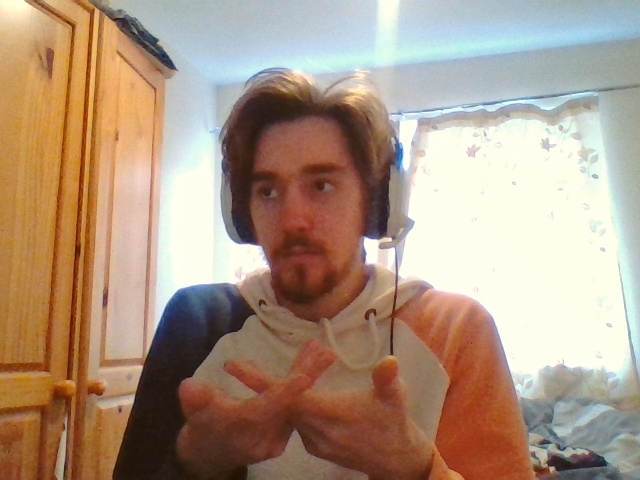how: (178, 338, 405, 465)
